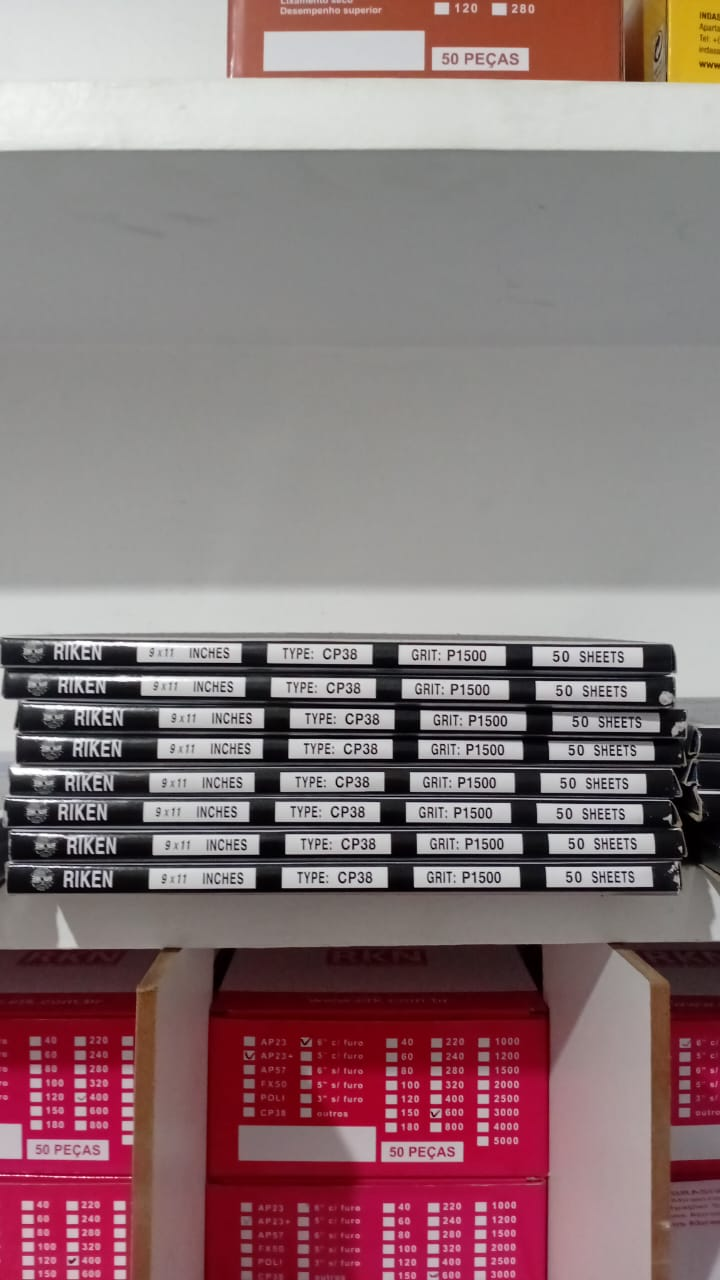grao: (394, 635, 511, 671), (408, 859, 528, 891), (395, 672, 514, 704), (402, 795, 517, 825), (410, 827, 527, 856), (407, 766, 521, 795), (414, 734, 527, 762), (416, 705, 528, 733)
objects: (0, 566, 712, 912)
